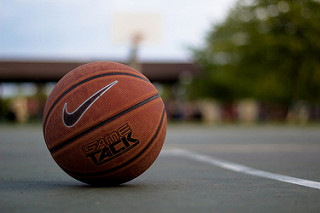basketball: (39, 59, 171, 190)
